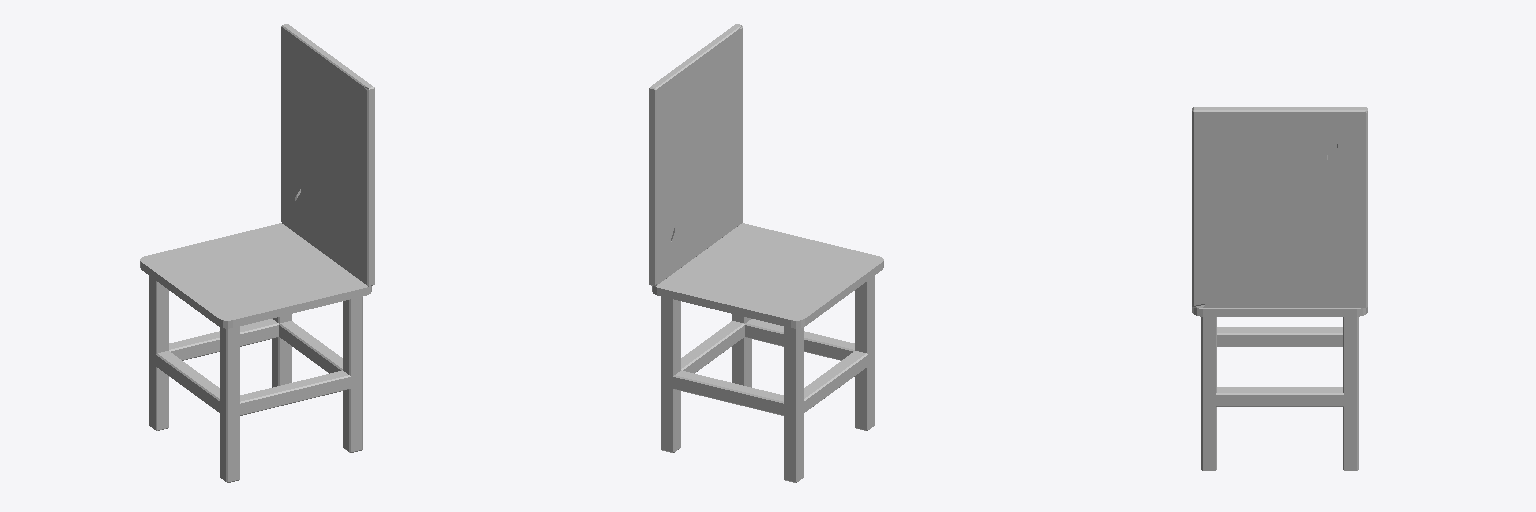
File: chair.obj
The picture shows the model from 3 angles: view 1: azimuth 30°, elevation 25°; view 2: azimuth 150°, elevation 25°; view 3: azimuth 270°, elevation 25°; orthographic projection.
Parts seen in each view (by area): view 1: Plane; view 2: Plane; view 3: Plane.
Boxes of the visible parts, x1,y1,x2,y2 form: Plane: [140, 24, 374, 482]; Plane: [649, 24, 883, 482]; Plane: [1192, 107, 1367, 470].
Bounding box in the file's own units: 2 × 4.6 × 2.